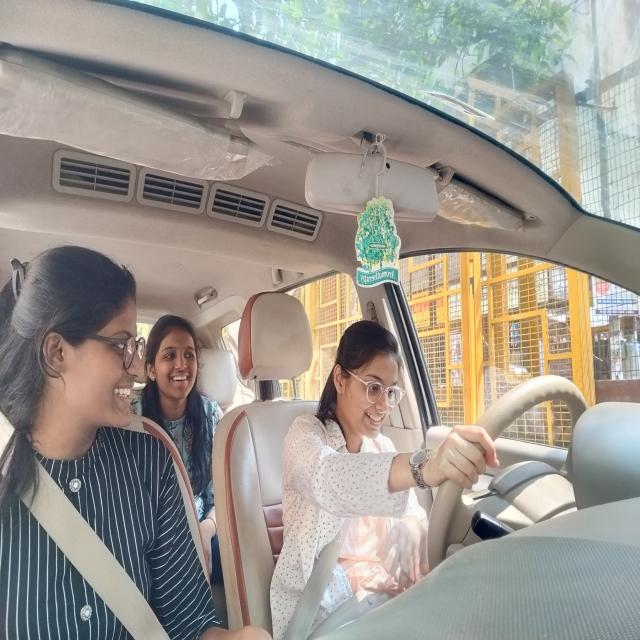person: (14, 244, 149, 432), (325, 320, 403, 444), (146, 314, 205, 405)
